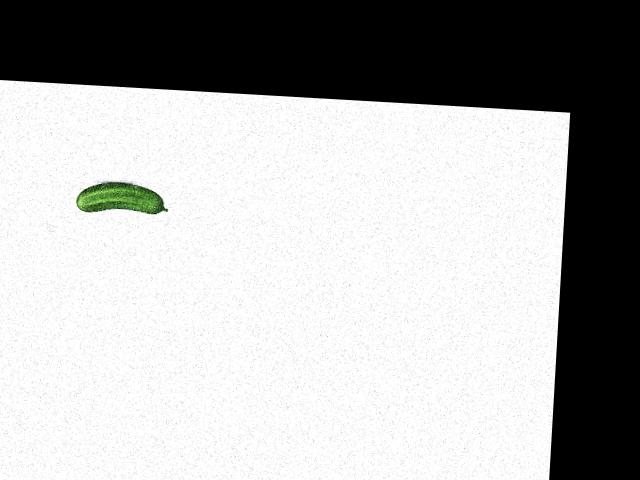cucumber: (75, 179, 169, 216)
